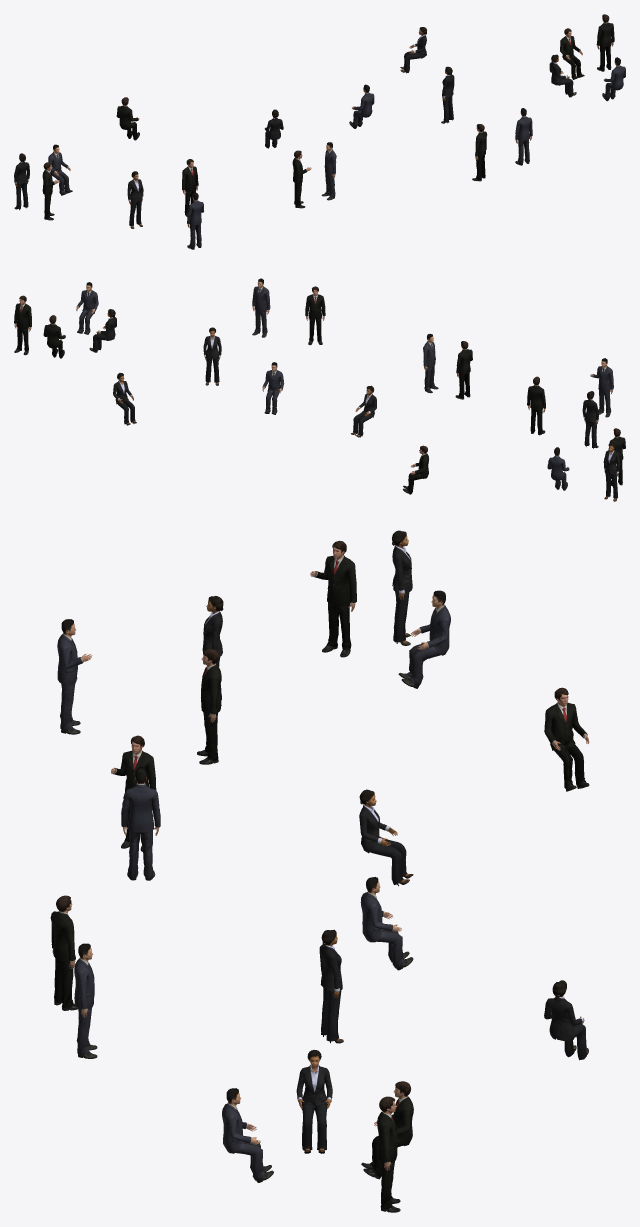
Rendered from projection-finish-v2-visitors.glb.
3 renders of one model, top to bottom at view 1: azimuth 30°, elevation 25°; view 2: azimuth 150°, elevation 25°; view 3: azimuth 270°, elevation 25°, orthographic. The views are drawn at different scales.
Parts seen in each view (by area): view 1: Rocketbox | Business_Male_02 | body | visitor.002, Rocketbox | Business_Male_01 | body | visitor.003, Rocketbox | Business_Male_02 | body | visitor, Rocketbox | Business_Female_01 | body | visitor, Rocketbox | Business_Female_01 | body | visitor.001, Rocketbox | Business_Male_01 | body | visitor.006, Rocketbox | Business_Male_02 | body | visitor.005, Rocketbox | Business_Male_01 | body | visitor, Rocketbox | Business_Female_01 | body | visitor.002, Rocketbox | Business_Male_02 | body | visitor.001, Rocketbox | Business_Male_01 | body | visitor.004, Rocketbox | Business_Male_01 | body | visitor.005 (+7 smaller); view 2: Rocketbox | Business_Male_01 | body | visitor.004, Rocketbox | Business_Male_01 | body | visitor.003, Rocketbox | Business_Male_02 | body | visitor.002, Rocketbox | Business_Male_01 | body | visitor, Rocketbox | Business_Female_01 | body | visitor.002, Rocketbox | Business_Male_02 | body | visitor, Rocketbox | Business_Male_01 | body | visitor.001, Rocketbox | Business_Female_01 | body | visitor.001, Rocketbox | Business_Male_02 | body | visitor.003, Rocketbox | Business_Male_02 | body | visitor.004, Rocketbox | Business_Female_01 | body | visitor, Rocketbox | Business_Female_01 | body | visitor.004 (+7 smaller); view 3: Rocketbox | Business_Male_02 | body | visitor.001, Rocketbox | Business_Male_01 | body | visitor.002, Rocketbox | Business_Male_01 | body | visitor.005, Rocketbox | Business_Female_01 | body | visitor.005, Rocketbox | Business_Male_01 | body | visitor.004, Rocketbox | Business_Female_01 | body | visitor.003, Rocketbox | Business_Male_02 | body | visitor.005, Rocketbox | Business_Female_01 | body | visitor.002, Rocketbox | Business_Male_02 | body | visitor.003, Rocketbox | Business_Male_02 | body | visitor.004, Rocketbox | Business_Male_02 | body | visitor, Rocketbox | Business_Female_01 | body | visitor.004 (+7 smaller).
Boxes of the visible parts, x1,y1,x2,y2 form: Rocketbox | Business_Male_02 | body | visitor.002: [515, 108, 532, 165]; Rocketbox | Business_Male_01 | body | visitor.003: [596, 14, 614, 71]; Rocketbox | Business_Male_02 | body | visitor: [187, 192, 204, 249]; Rocketbox | Business_Female_01 | body | visitor: [127, 171, 143, 228]; Rocketbox | Business_Female_01 | body | visitor.001: [14, 153, 29, 210]; Rocketbox | Business_Male_01 | body | visitor.006: [560, 28, 584, 79]; Rocketbox | Business_Male_02 | body | visitor.005: [48, 144, 72, 195]; Rocketbox | Business_Male_01 | body | visitor: [182, 159, 198, 216]; Rocketbox | Business_Female_01 | body | visitor.002: [441, 66, 454, 123]; Rocketbox | Business_Male_02 | body | visitor.001: [321, 142, 336, 200]; Rocketbox | Business_Male_01 | body | visitor.004: [472, 124, 487, 181]; Rocketbox | Business_Male_01 | body | visitor.005: [116, 97, 139, 140]; Rocketbox | Business_Male_01 | body | visitor.004: [305, 286, 325, 345]; Rocketbox | Business_Male_01 | body | visitor.003: [14, 295, 31, 355]; Rocketbox | Business_Male_02 | body | visitor.002: [252, 278, 270, 337]; Rocketbox | Business_Male_01 | body | visitor: [527, 376, 545, 435]; Rocketbox | Business_Female_01 | body | visitor.002: [203, 327, 221, 385]; Rocketbox | Business_Male_02 | body | visitor: [590, 358, 613, 417]; Rocketbox | Business_Male_01 | body | visitor.001: [455, 341, 472, 399]; Rocketbox | Business_Female_01 | body | visitor.001: [603, 442, 619, 501]; Rocketbox | Business_Male_02 | body | visitor.003: [262, 362, 284, 414]; Rocketbox | Business_Male_02 | body | visitor.004: [76, 282, 98, 334]; Rocketbox | Business_Female_01 | body | visitor: [582, 391, 598, 448]; Rocketbox | Business_Female_01 | body | visitor.004: [113, 373, 136, 425]; Rocketbox | Business_Male_02 | body | visitor.001: [121, 767, 160, 880]; Rocketbox | Business_Male_01 | body | visitor.002: [310, 540, 356, 657]; Rocketbox | Business_Male_01 | body | visitor.005: [544, 687, 589, 791]; Rocketbox | Business_Female_01 | body | visitor.005: [296, 1050, 332, 1153]; Rocketbox | Business_Male_01 | body | visitor.004: [50, 895, 77, 1010]; Rocketbox | Business_Female_01 | body | visitor.003: [359, 789, 413, 886]; Rocketbox | Business_Male_02 | body | visitor.005: [398, 590, 450, 688]; Rocketbox | Business_Female_01 | body | visitor.002: [319, 929, 343, 1043]; Rocketbox | Business_Male_02 | body | visitor.003: [360, 877, 413, 970]; Rocketbox | Business_Male_02 | body | visitor.004: [222, 1088, 273, 1182]; Rocketbox | Business_Male_02 | body | visitor: [57, 619, 92, 734]; Rocketbox | Business_Female_01 | body | visitor.004: [544, 980, 588, 1060].
Size of the model in its own units: 20.46 by 1.79 by 8.
9 materials, 9 textured.
